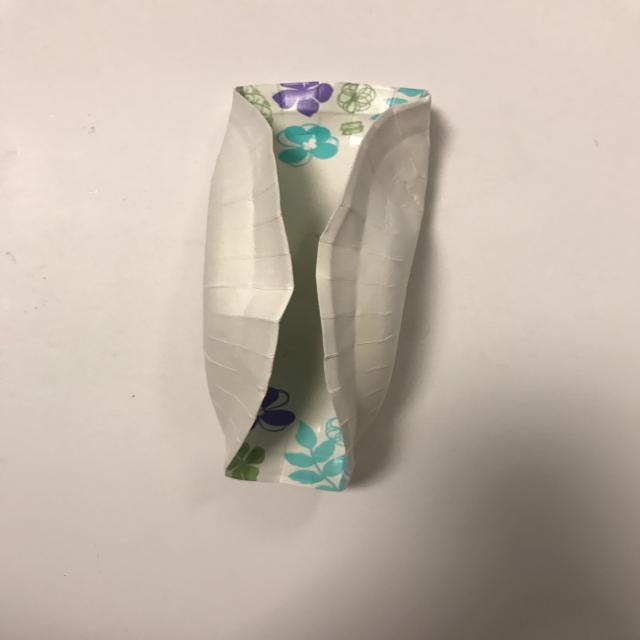paper: (202, 81, 433, 491)
